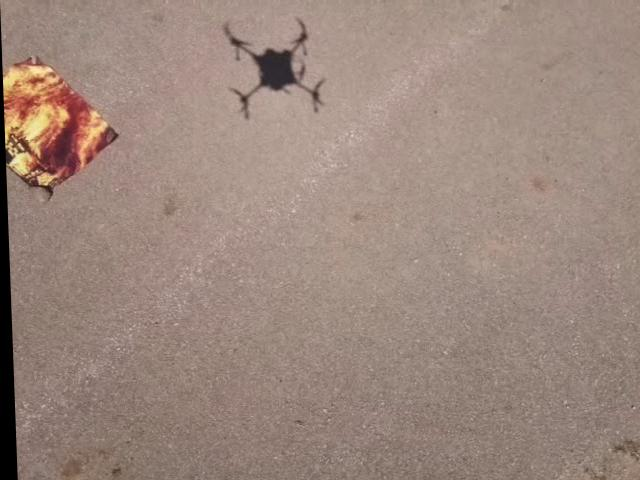fire-poster: (2, 53, 121, 199)
